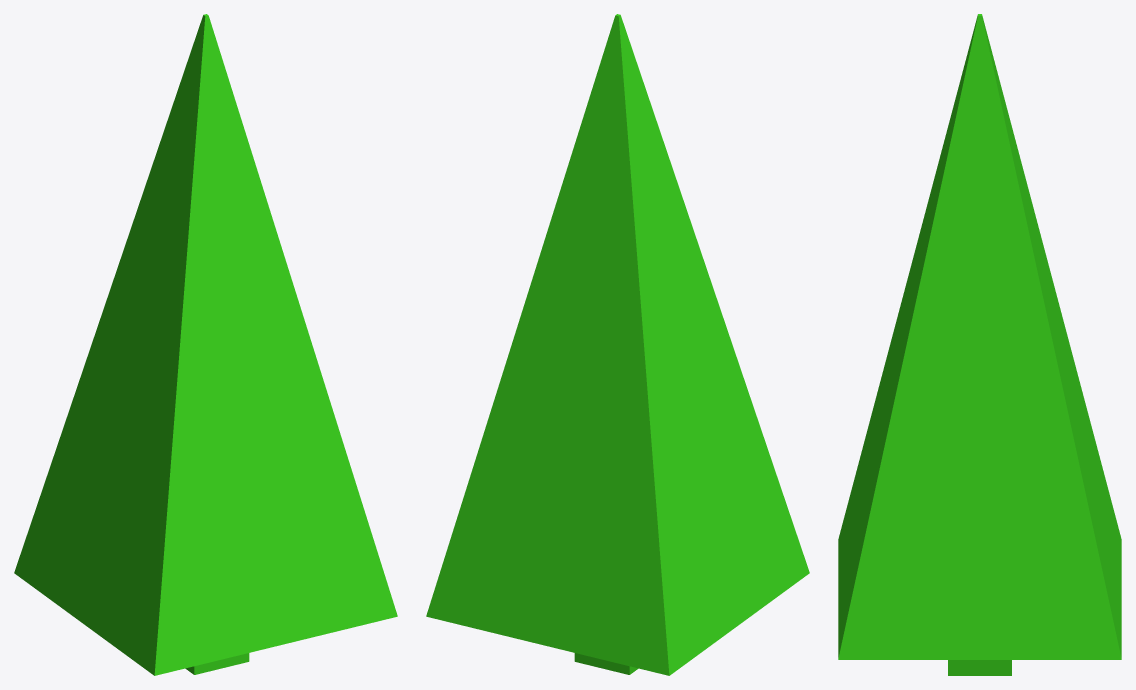
Rendered from tree.glb.
3 views of the same model, side by side, from view 1: azimuth 30°, elevation 25°; view 2: azimuth 150°, elevation 25°; view 3: azimuth 270°, elevation 25° (orthographic).
Parts seen in each view (by area): view 1: Cube.001; view 2: Cube.001; view 3: Cube.001.
Part boxes in pixels (bbox=[...]): Cube.001: bbox=[14, 14, 397, 675]; Cube.001: bbox=[426, 14, 809, 675]; Cube.001: bbox=[838, 14, 1121, 675].
Bounding box in the file's own units: 0.947 × 2.39 × 0.947.
